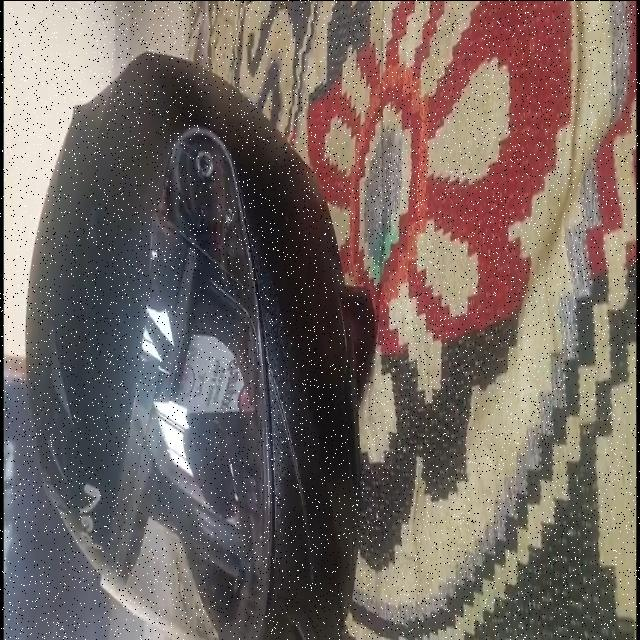Helmet: (26, 52, 372, 639)
